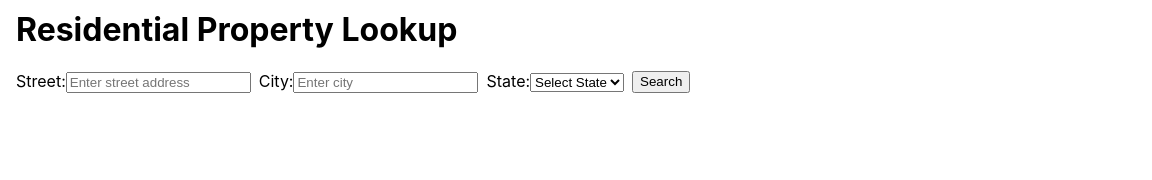
App Component Tests › should display an error message if property information is missing
This screenshot has width=1152, height=180.
Type "1252 Borregas Ave" into the field with placeholder "Enter street address".
click(158, 82); type("1252 Borregas Ave")  # box [66, 72, 251, 93]
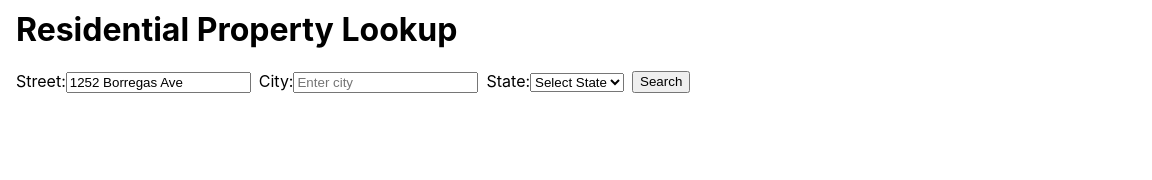
Type "Sunnyvale" into the field with placeholder "Enter city".
click(386, 82); type("Sunnyvale")  # box [294, 72, 478, 93]
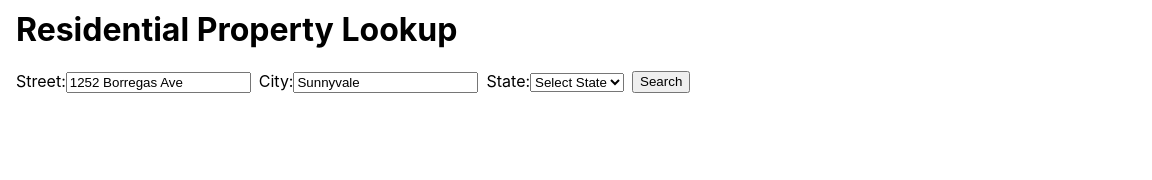
Select "CA" in the dropdown showing "Select State" at x=577, y=82, box [530, 73, 624, 92]
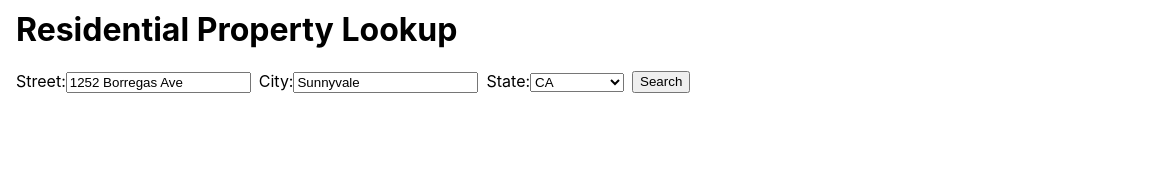
Click the button "Search".
click(661, 82)  # box [632, 71, 690, 93]
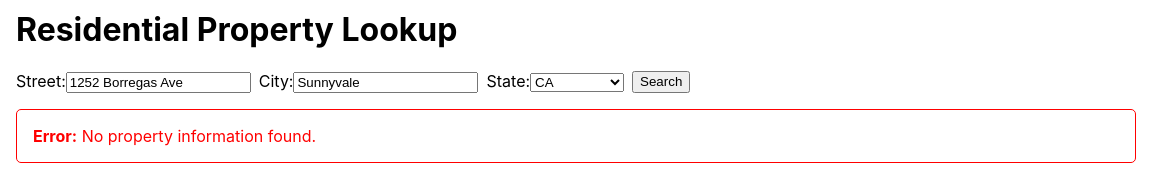
Expected: the text "No property information found." is shown, [82, 126, 316, 146]
